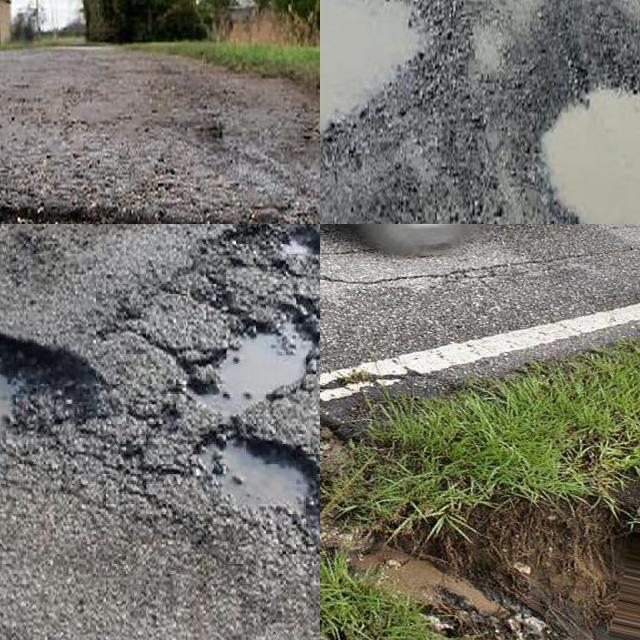Lubang: (129, 224, 320, 524), (528, 52, 640, 224), (320, 0, 445, 138), (0, 341, 108, 443)
Pinggir: (320, 390, 517, 602)
